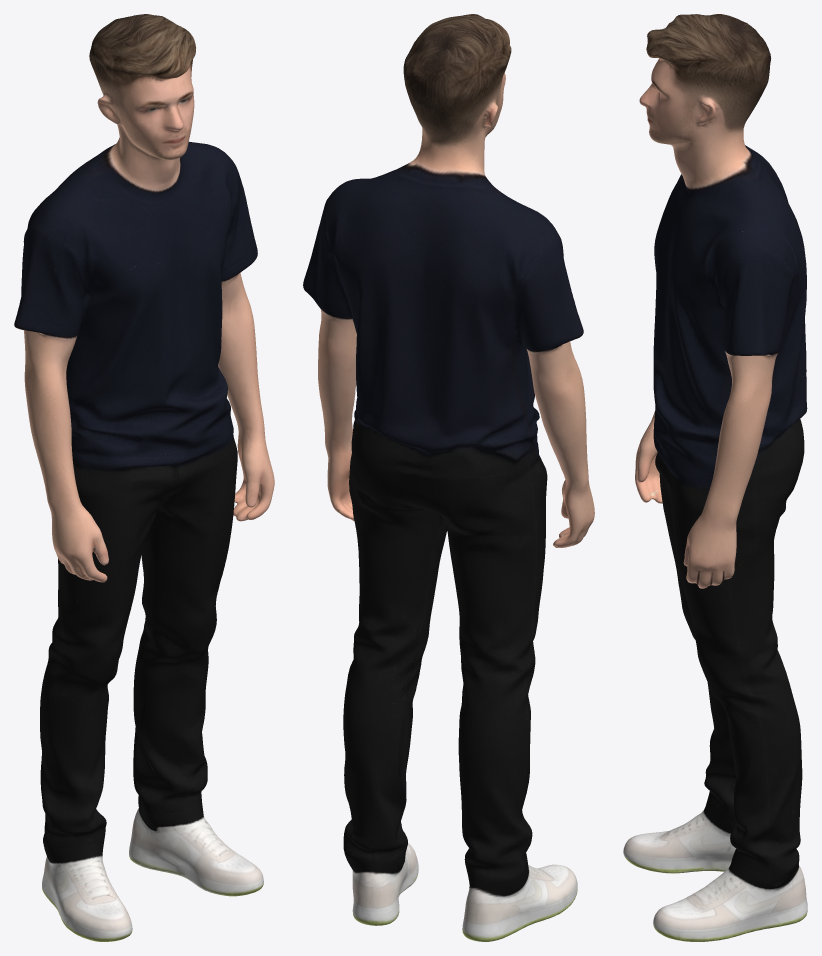
Rendered from Meshy_AI_Casual_Studio_Portrai_1009100653_texture.glb.
3 renders of one model, left to right at view 1: azimuth 30°, elevation 25°; view 2: azimuth 150°, elevation 25°; view 3: azimuth 270°, elevation 25°, orthographic.
Bounding box in the file's own units: 0.5828 × 1.9 × 0.3618.
1 material, 1 textured.
